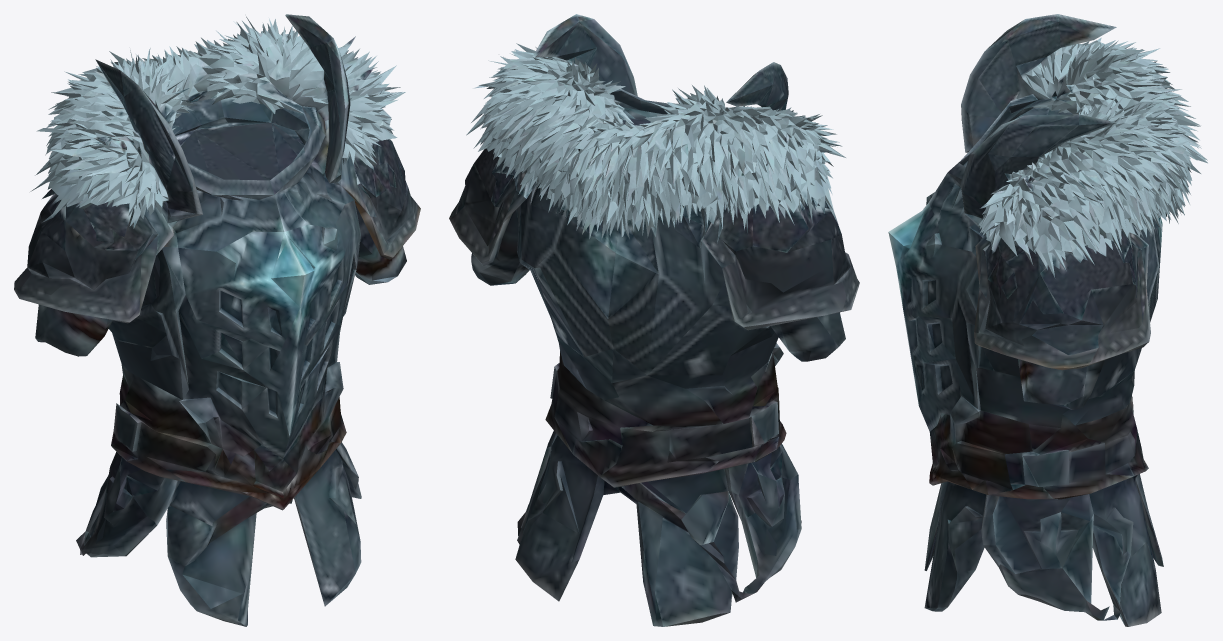
File: mx_gr_ice_armor.glb
The picture shows the model from 3 angles, left to right: view 1: azimuth 30°, elevation 25°; view 2: azimuth 150°, elevation 25°; view 3: azimuth 270°, elevation 25°; orthographic projection.
Size of the model in its own units: 1.49 by 1.9 by 1.05.
Materials: 1 (1 with a texture image).
